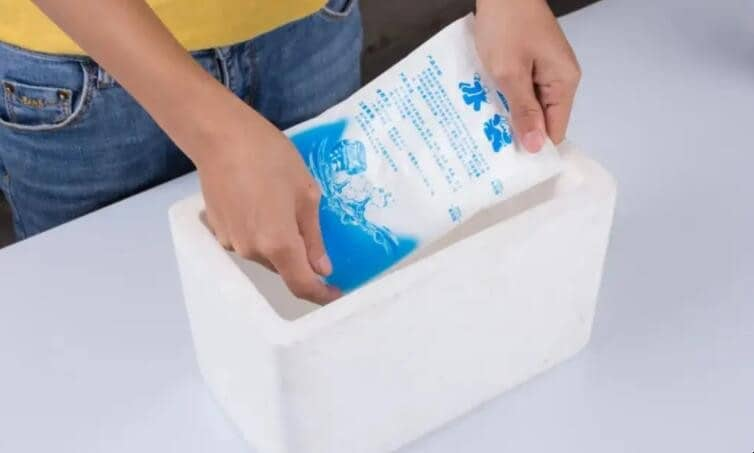Boxes: (169, 153, 615, 452)
